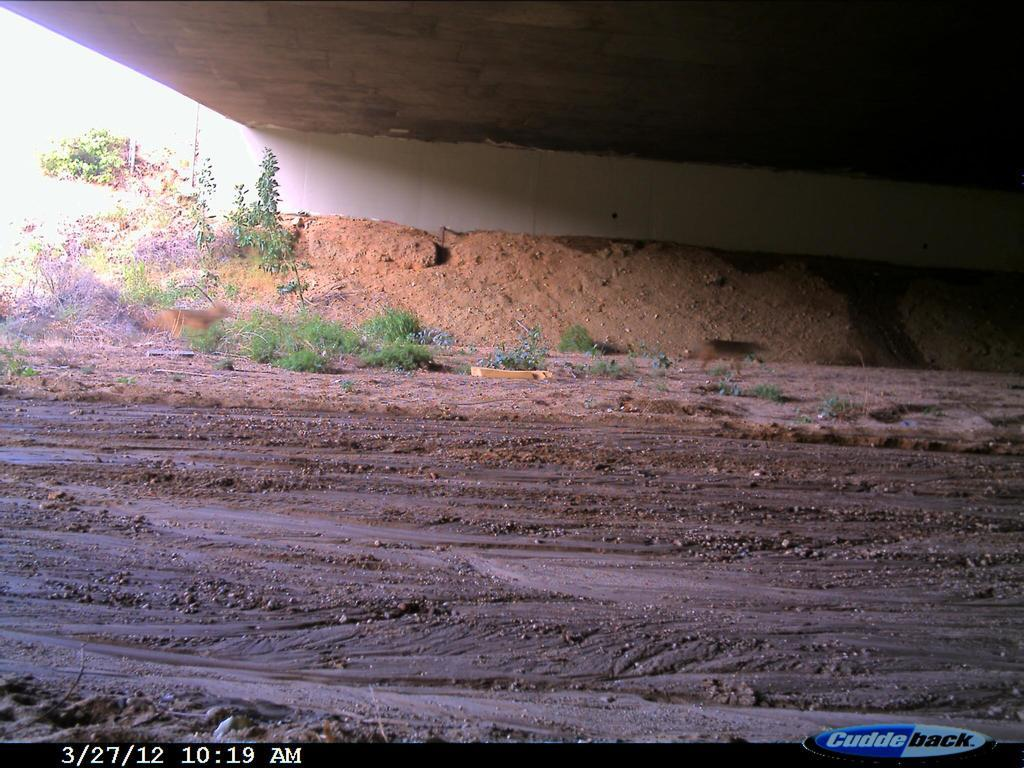coyote: (140, 301, 238, 357), (690, 332, 780, 388)
